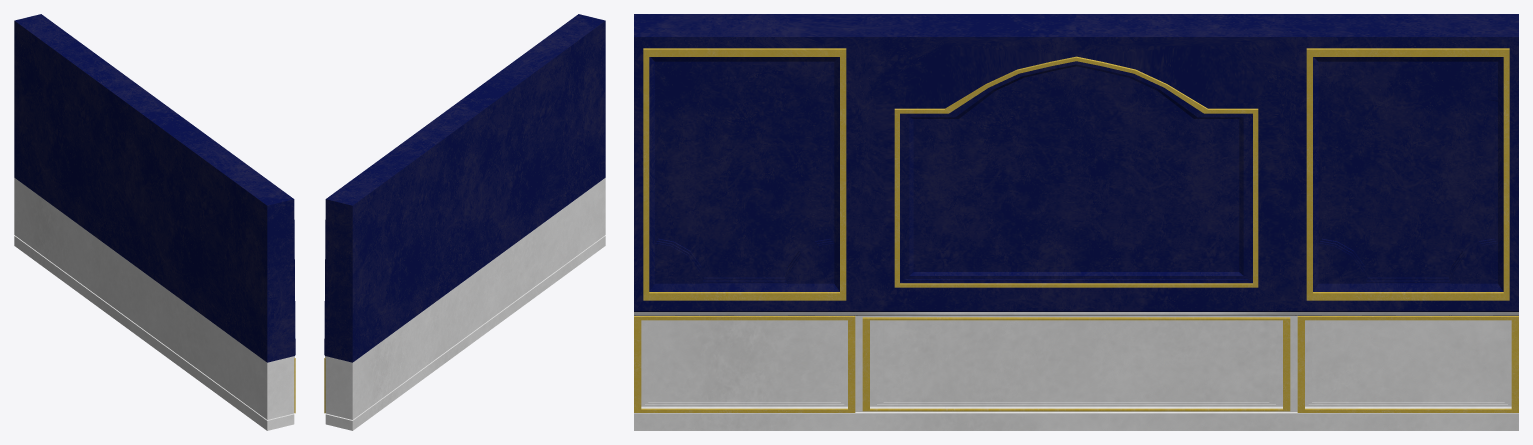
Rendered from wall_side_with_texture_diningroom.fbx.
3 views of the same model, side by side, from view 1: azimuth 30°, elevation 25°; view 2: azimuth 150°, elevation 25°; view 3: azimuth 270°, elevation 25° (orthographic). The views are drawn at different scales.
Visible parts, largest first — view 1: wall_side_dining_room; view 2: wall_side_dining_room; view 3: wall_side_dining_room.
Boxes of the visible parts, box(x1,y1,x2,y2) form: wall_side_dining_room: box(14, 14, 295, 430); wall_side_dining_room: box(324, 14, 605, 430); wall_side_dining_room: box(634, 14, 1518, 430).
Bounding box in the file's own units: 23.49 × 170 × 347.
